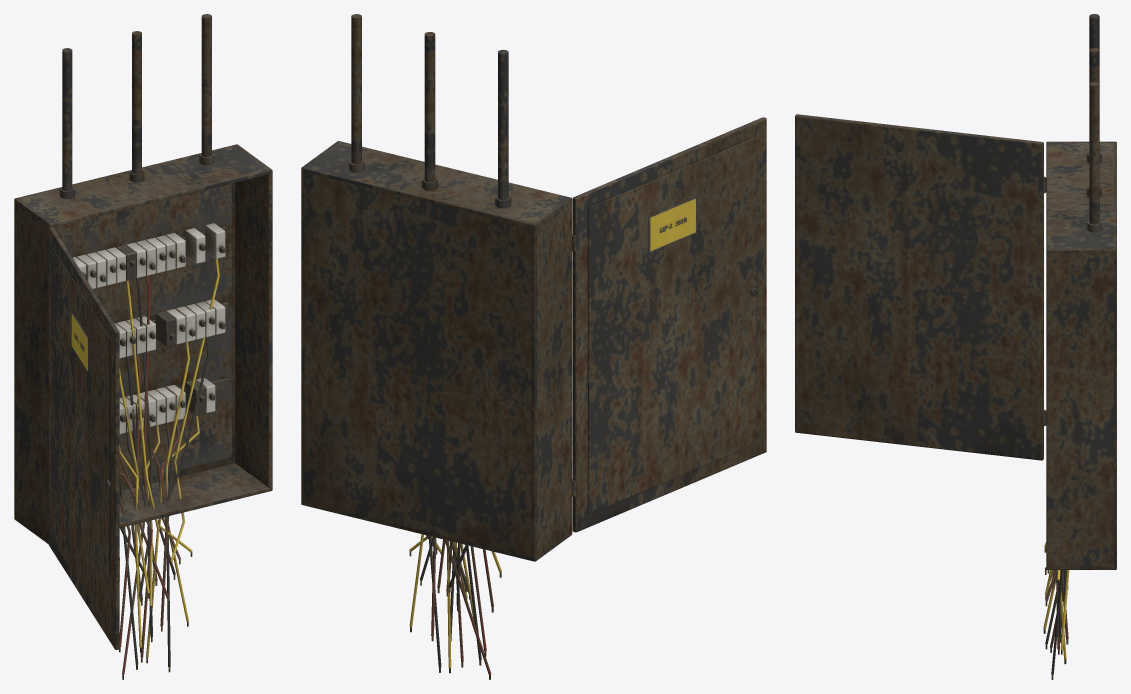
File: Breaker_Panel.fbx
3 renders of one model, left to right at view 1: azimuth 30°, elevation 25°; view 2: azimuth 150°, elevation 25°; view 3: azimuth 270°, elevation 25°, orthographic. The views are drawn at different scales.
Parts seen in each view (by area): view 1: Breaker_Panel_Mesh; view 2: Breaker_Panel_Mesh; view 3: Breaker_Panel_Mesh.
Part boxes in pixels (x1=…): Breaker_Panel_Mesh: x1=14, y1=14, x2=272, y2=679; Breaker_Panel_Mesh: x1=301, y1=14, x2=766, y2=679; Breaker_Panel_Mesh: x1=795, y1=14, x2=1116, y2=679.
Bounding box in the file's own units: 1.01 × 2.14 × 1.
